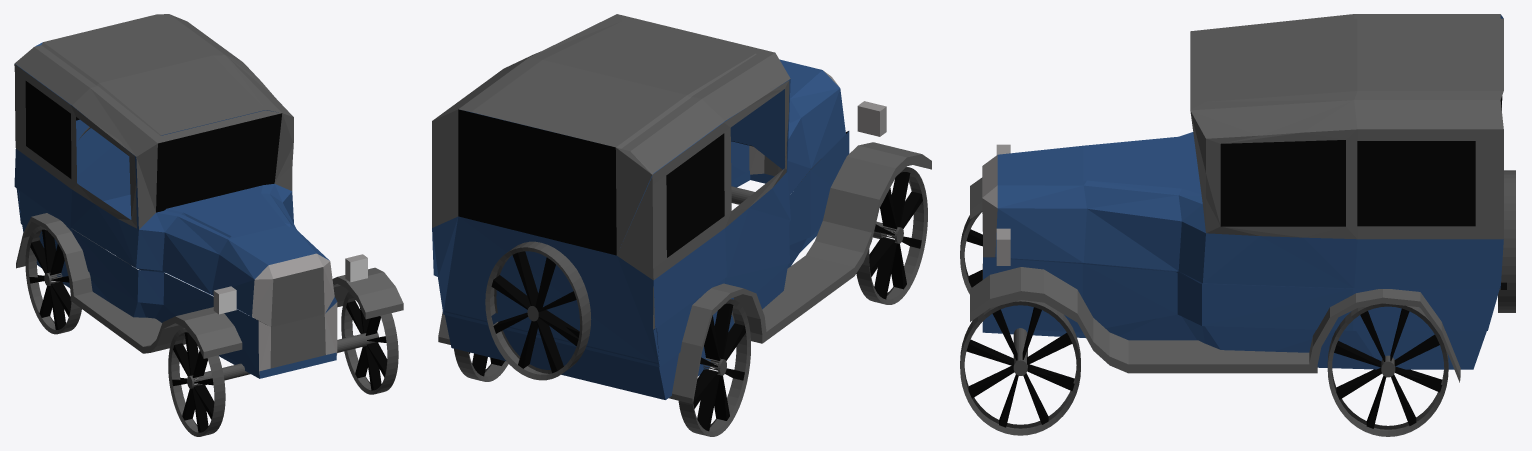
File: morris-minor-1928.dae
3 views of the same model, side by side, from view 1: azimuth 30°, elevation 25°; view 2: azimuth 150°, elevation 25°; view 3: azimuth 270°, elevation 25° (orthographic). The views are drawn at different scales.
Parts seen in each view (by area): view 1: Cube_003, Cube_002, Cylinder_008, Cylinder, Cube_001; view 2: Cube_003, Cube_002, Cylinder_001, Cylinder, Cylinder_008, Cube_001; view 3: Cube_003, Cube_002, Cylinder_008, Cylinder, Cylinder_001, Cube_001.
Boxes of the visible parts, x1=… form: Cube_003: x1=14, y1=14, x2=337, y2=378; Cube_002: x1=16, y1=213, x2=403, y2=358; Cylinder_008: x1=168, y1=291, x2=398, y2=436; Cylinder: x1=25, y1=226, x2=129, y2=334; Cube_001: x1=213, y1=254, x2=367, y2=314; Cube_003: x1=432, y1=14, x2=849, y2=399; Cube_002: x1=438, y1=142, x2=931, y2=403; Cylinder_001: x1=485, y1=241, x2=591, y2=380; Cylinder: x1=454, y1=299, x2=750, y2=436; Cylinder_008: x1=731, y1=166, x2=927, y2=304; Cube_001: x1=857, y1=101, x2=886, y2=136; Cube_003: x1=982, y1=14, x2=1503, y2=369; Cube_002: x1=970, y1=177, x2=1460, y2=382; Cylinder_008: x1=960, y1=211, x2=1080, y2=435; Cylinder: x1=1327, y1=303, x2=1448, y2=436; Cylinder_001: x1=1498, y1=170, x2=1515, y2=312; Cube_001: x1=996, y1=144, x2=1010, y2=265.
Bounding box in the file's own units: 0.926 × 1.72 × 1.1.
